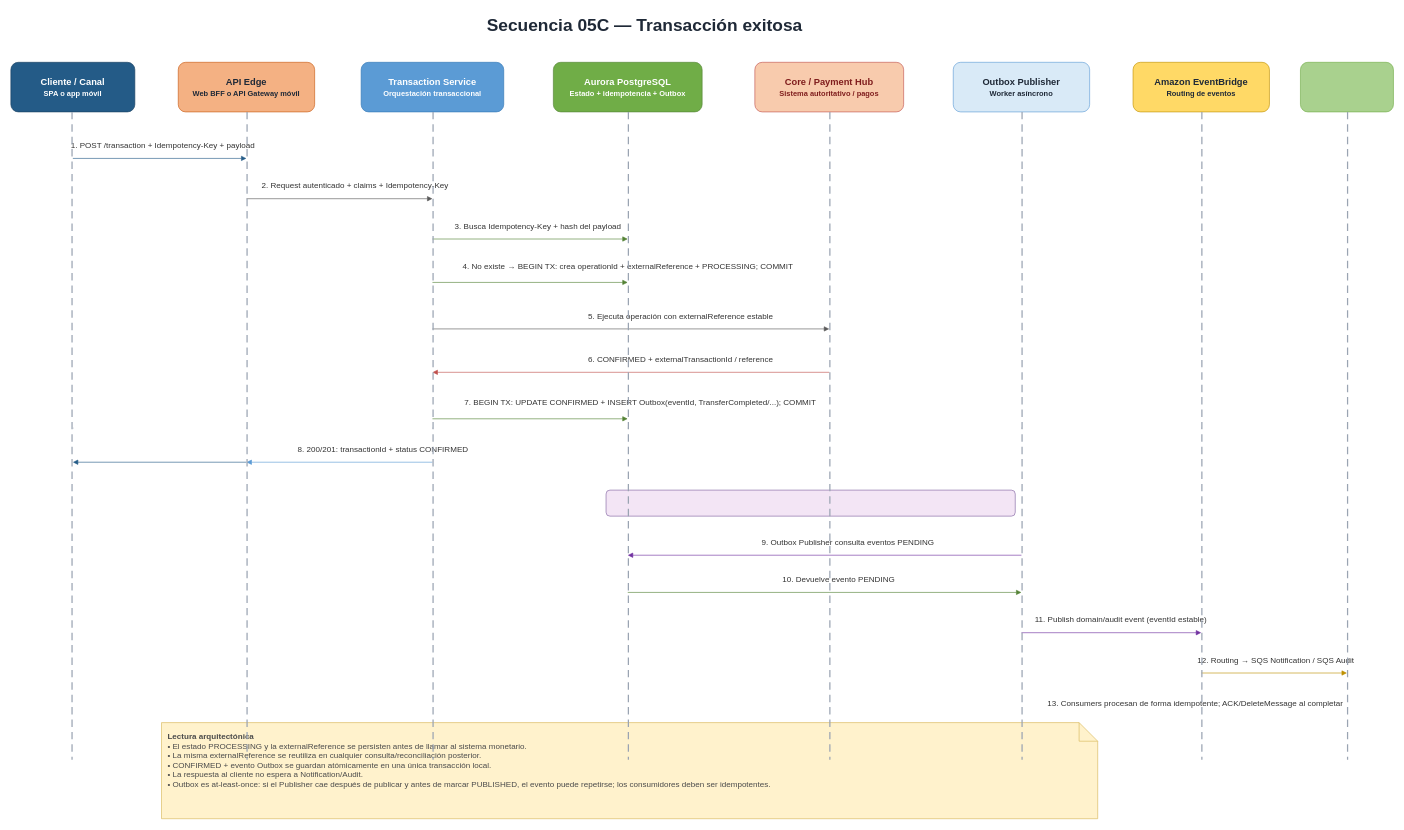
The diagram is 1404 pixels wide and 830 high, and some of its shapes have lost their labels. Here are the shapes that lost their labels. From the top down, the box of each, then its label:
(1300, 62, 1393, 112): SQS + Consumers Notification / Audit
(605, 489, 1015, 516): Publicación asíncrona después del commit y de la respuesta al cliente
